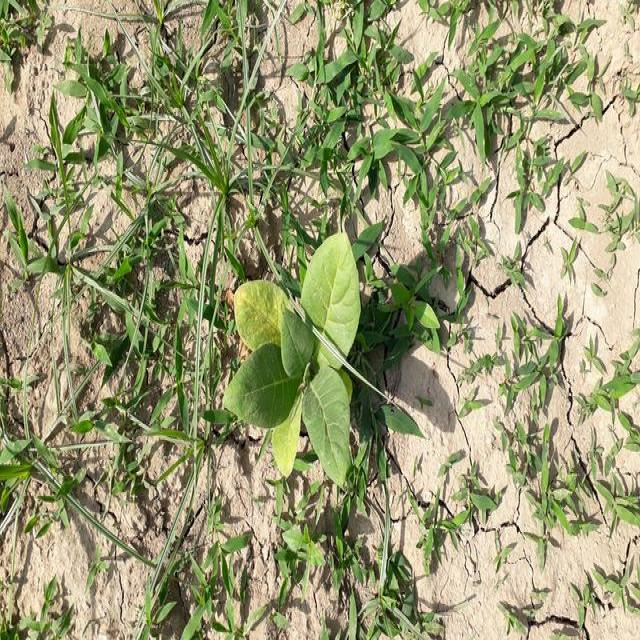crop: (229, 232, 363, 484)
